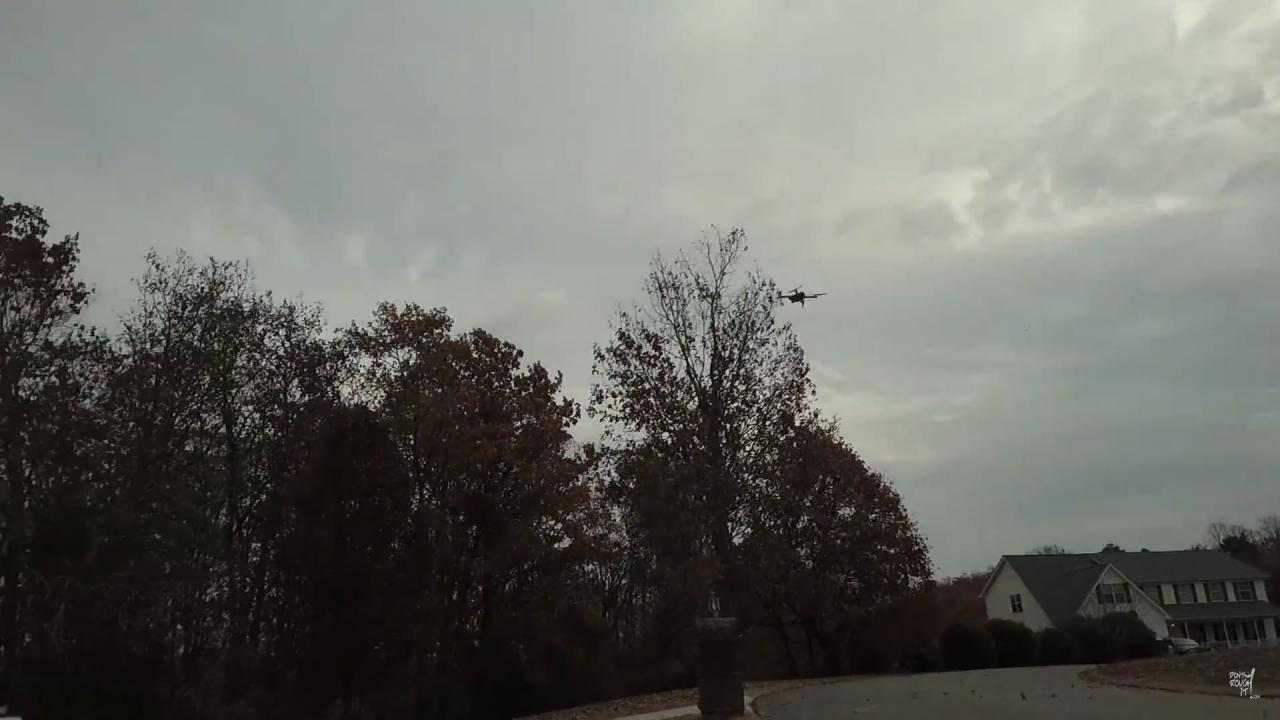Drone: (769, 276, 835, 316)
